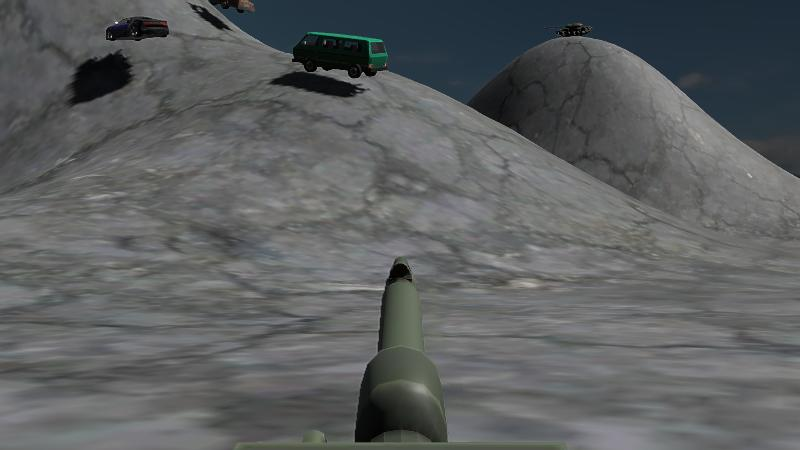car: (291, 31, 388, 79), (105, 15, 170, 44), (105, 16, 170, 43)
